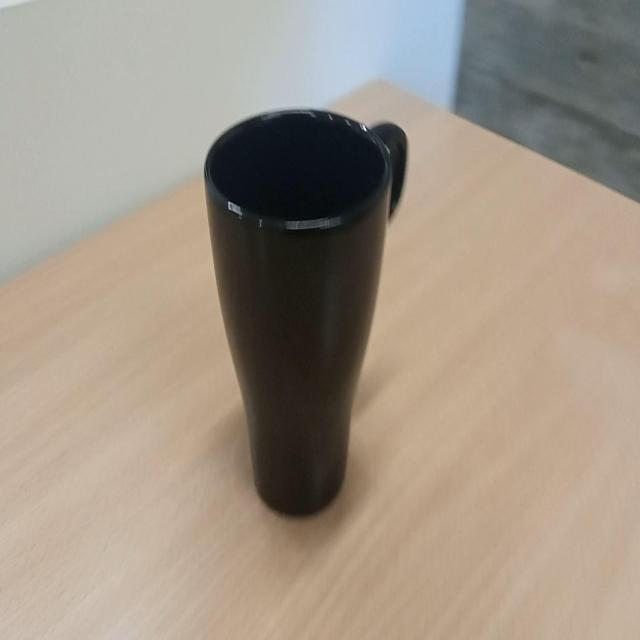cup: (186, 95, 427, 546)
